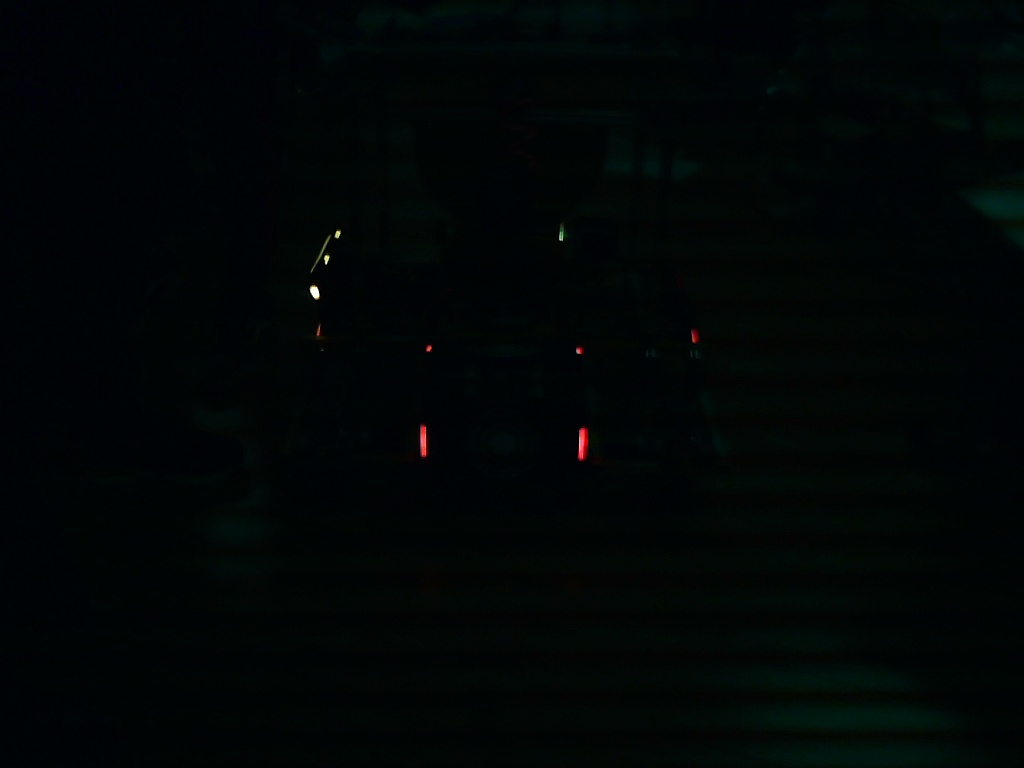lamp: (575, 422, 592, 467), (416, 417, 431, 459)
